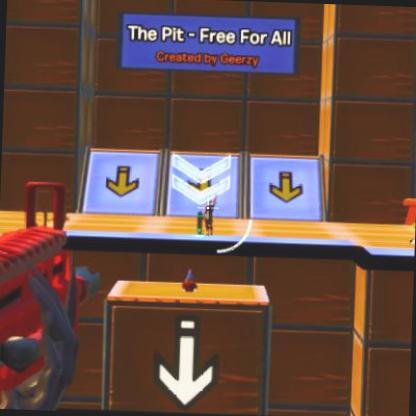person: (204, 200, 221, 236)
